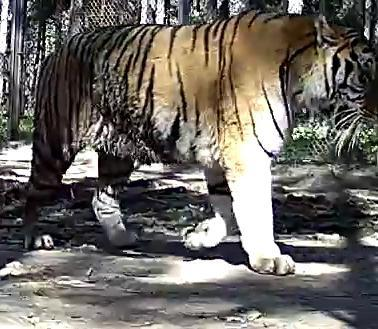tiger: (24, 10, 374, 274)
